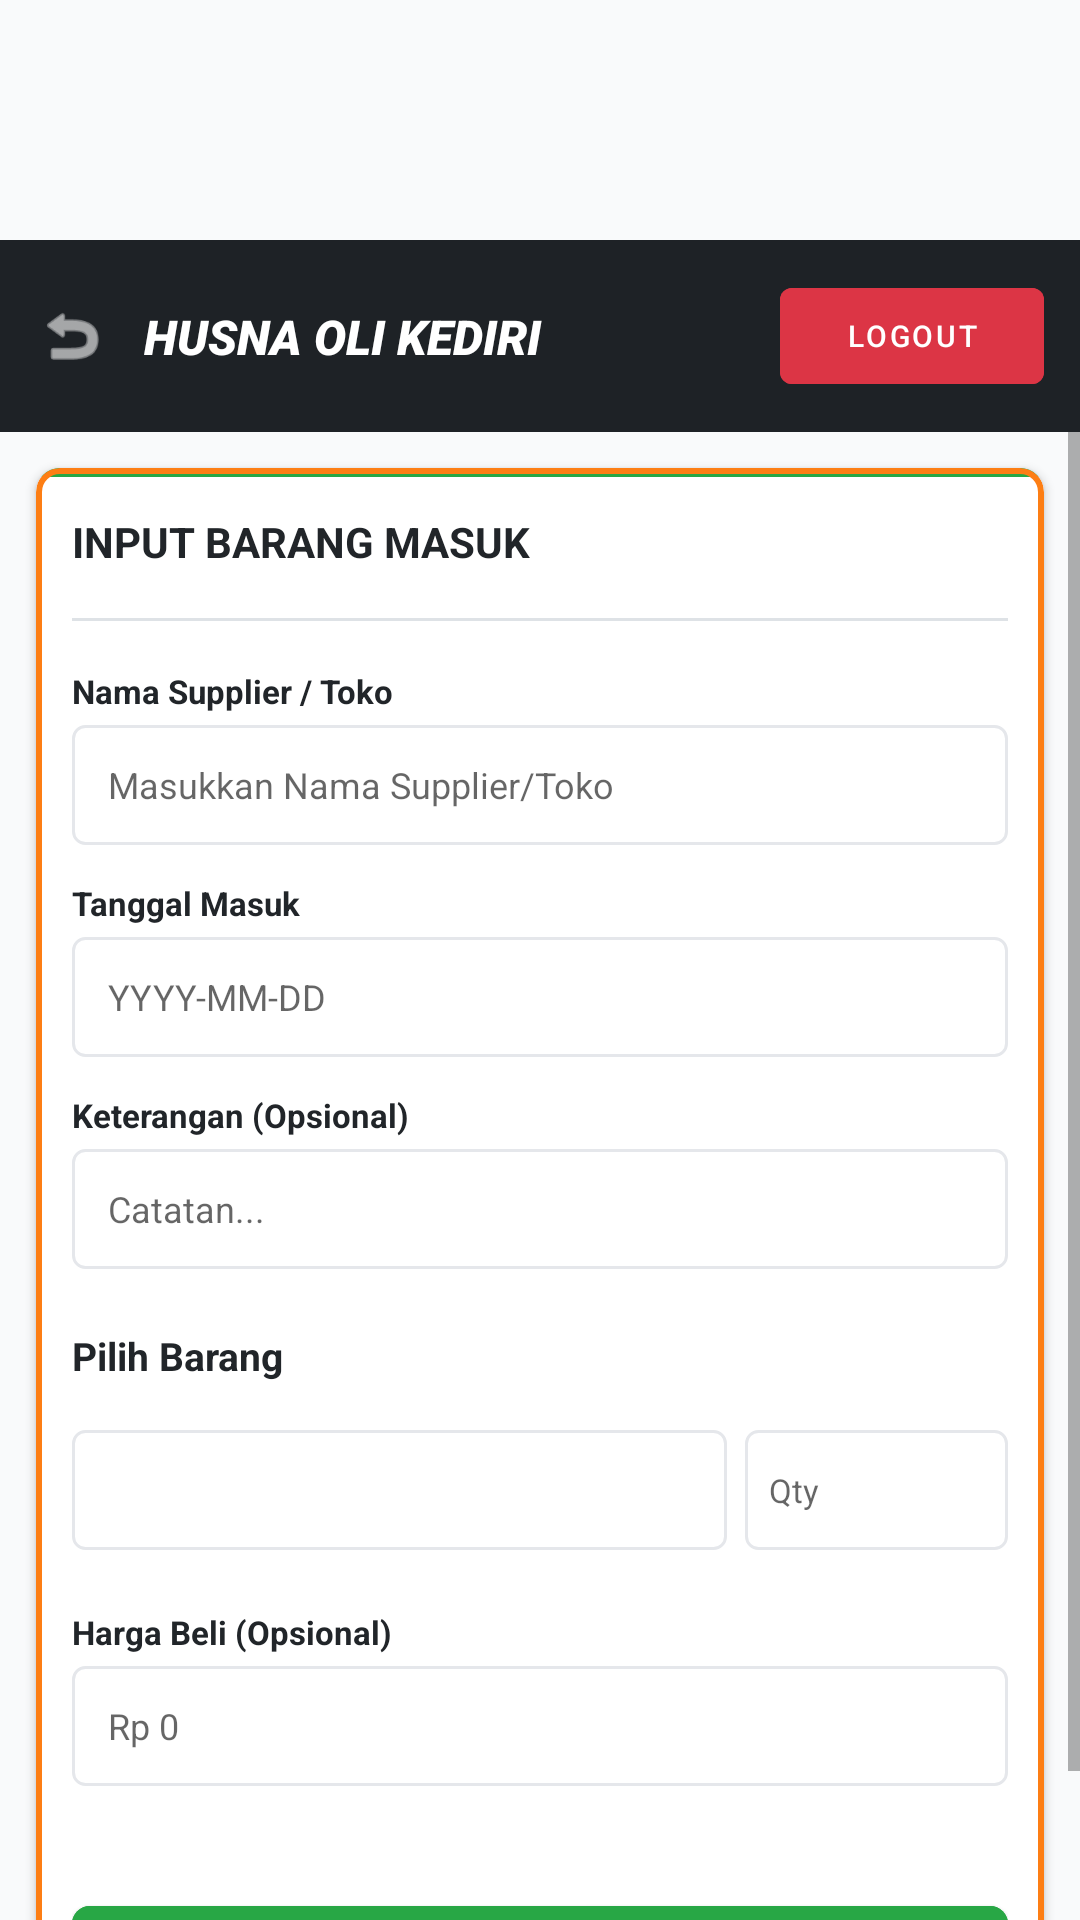

Where to tap for icons on this 1080w x 1920h app screen, as (x=x, y=y):
revert: (x=73, y=336)
